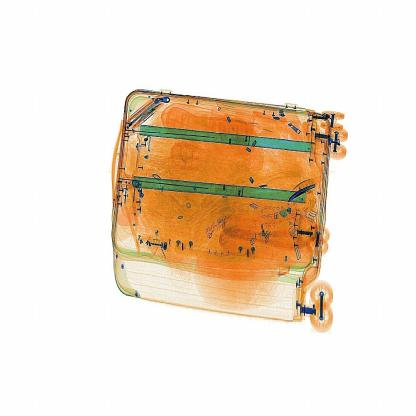pliers: (289, 181, 323, 203)
